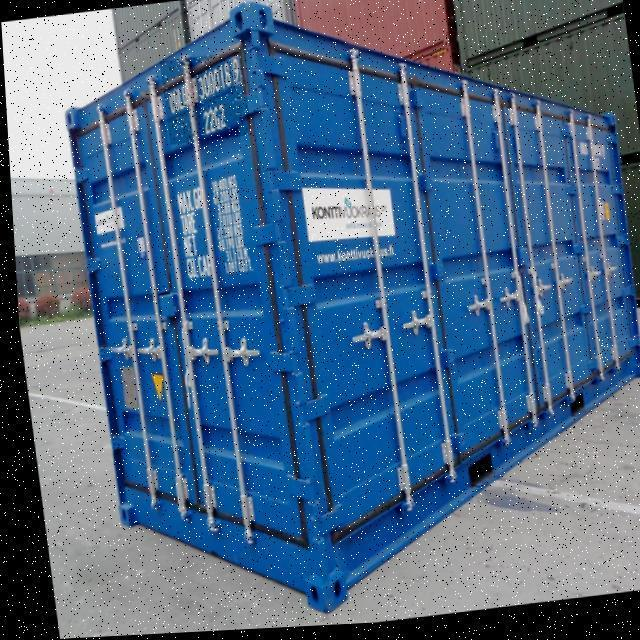container_number_h: (158, 54, 250, 146)
